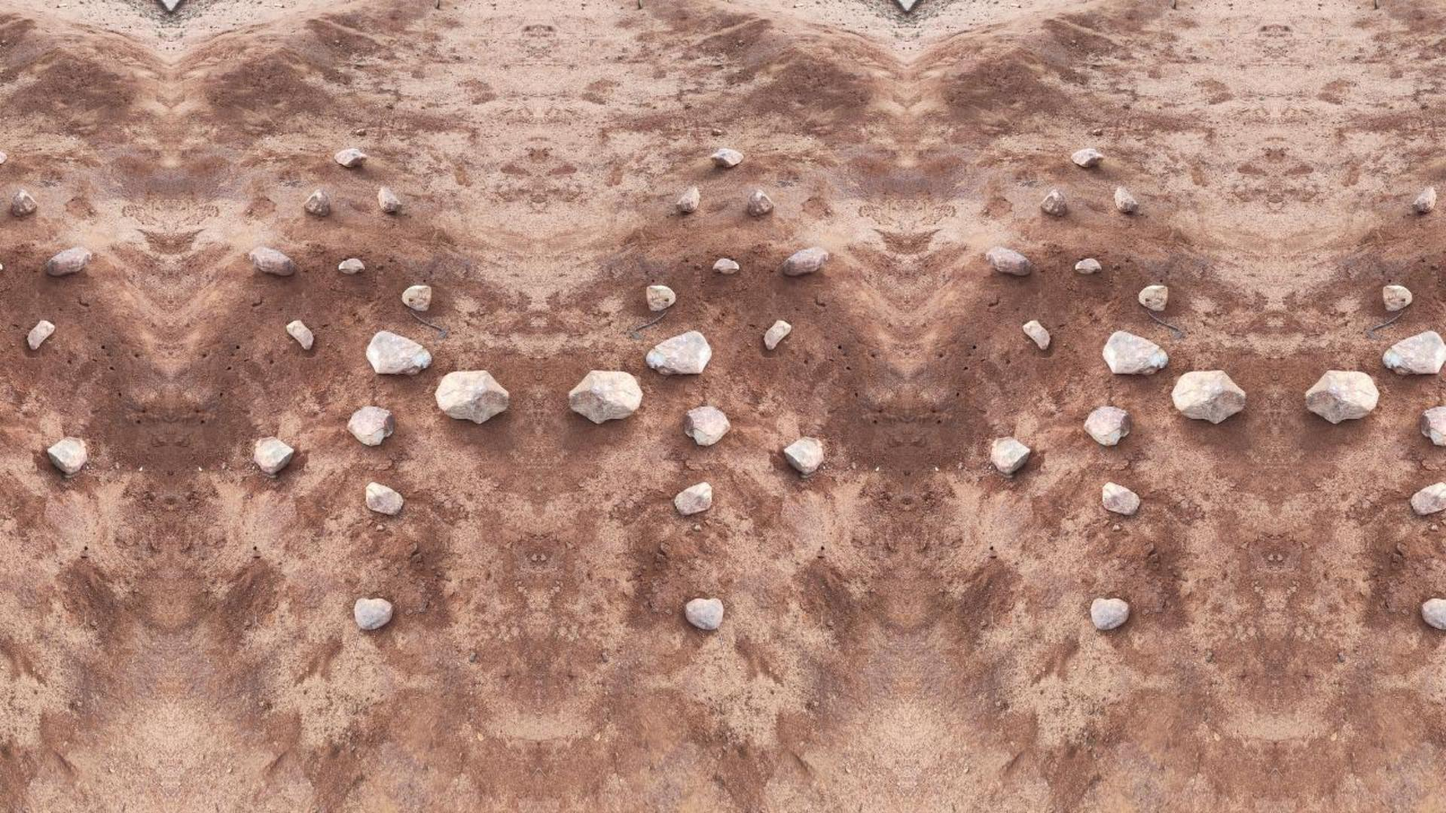rock: (1171, 370, 1245, 423), (1306, 370, 1378, 423), (568, 370, 641, 422), (436, 370, 508, 422), (1103, 330, 1168, 374), (645, 331, 711, 374), (366, 331, 432, 374), (1382, 331, 1445, 374), (683, 405, 730, 445), (1084, 405, 1130, 445), (347, 406, 393, 445), (46, 437, 87, 477), (254, 437, 293, 475), (990, 437, 1029, 475), (784, 437, 822, 475), (247, 246, 295, 276), (44, 246, 92, 276), (985, 246, 1031, 276), (781, 247, 827, 276), (1090, 597, 1129, 630), (673, 482, 711, 515), (1101, 482, 1139, 515), (365, 482, 402, 515), (685, 598, 723, 630), (354, 598, 392, 630), (1410, 482, 1445, 515), (1420, 405, 1445, 445), (1382, 283, 1412, 312), (1022, 320, 1051, 350), (763, 320, 791, 350), (646, 285, 676, 312), (286, 320, 313, 350), (401, 285, 432, 311), (1420, 598, 1445, 630), (27, 320, 54, 349), (1040, 187, 1066, 217), (747, 189, 774, 217), (1138, 285, 1167, 311), (304, 189, 330, 217), (674, 186, 699, 213), (11, 190, 36, 216), (377, 186, 401, 213), (1114, 186, 1138, 213), (334, 148, 366, 167), (1071, 148, 1103, 167), (1413, 186, 1436, 212), (711, 148, 742, 167), (712, 257, 739, 274), (337, 257, 364, 274), (1074, 257, 1101, 274), (0, 151, 7, 165)
